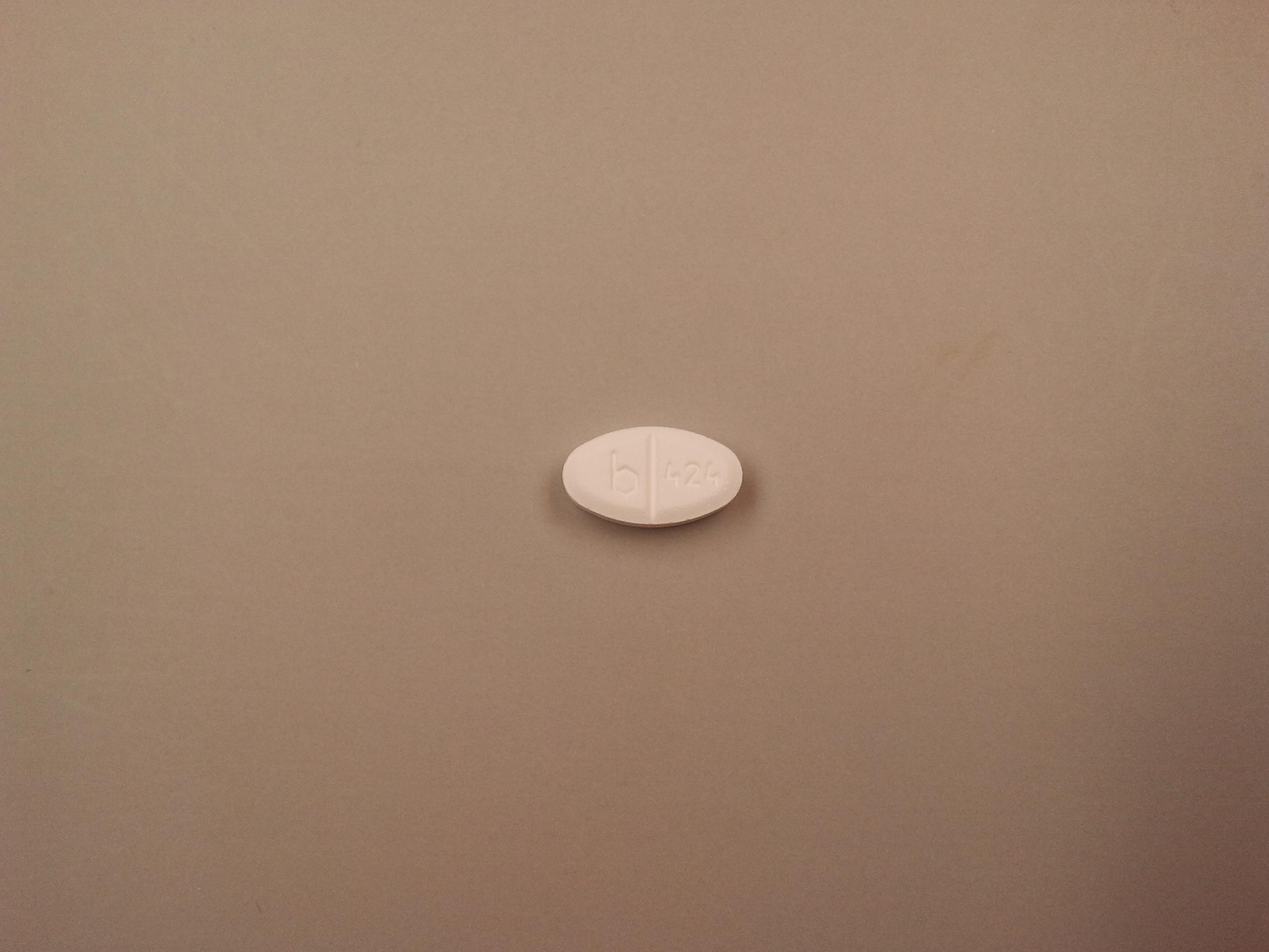Pill: (555, 416, 752, 534)
